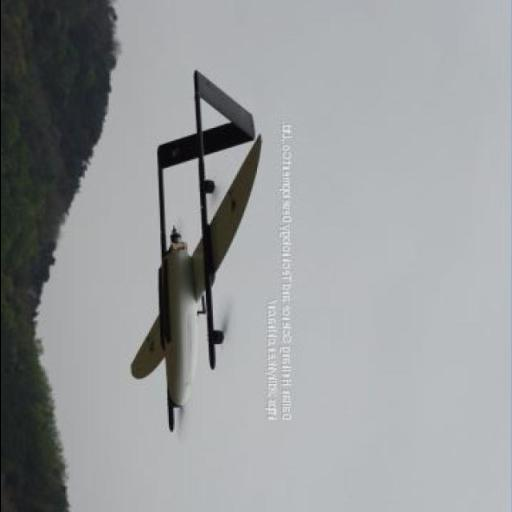uav: (118, 66, 264, 432)
